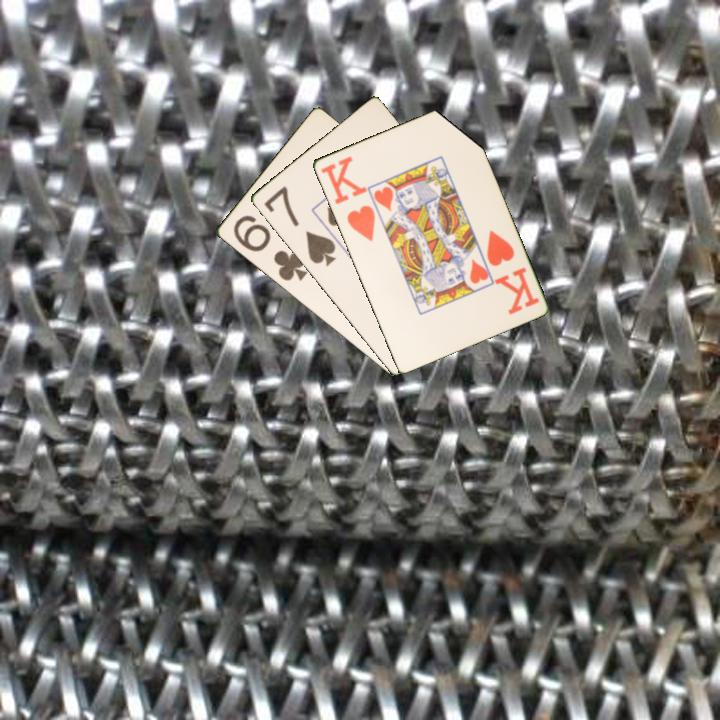6c: (229, 211, 310, 284)
7s: (260, 182, 338, 270)
Kh: (317, 152, 378, 244), (482, 226, 542, 317)
